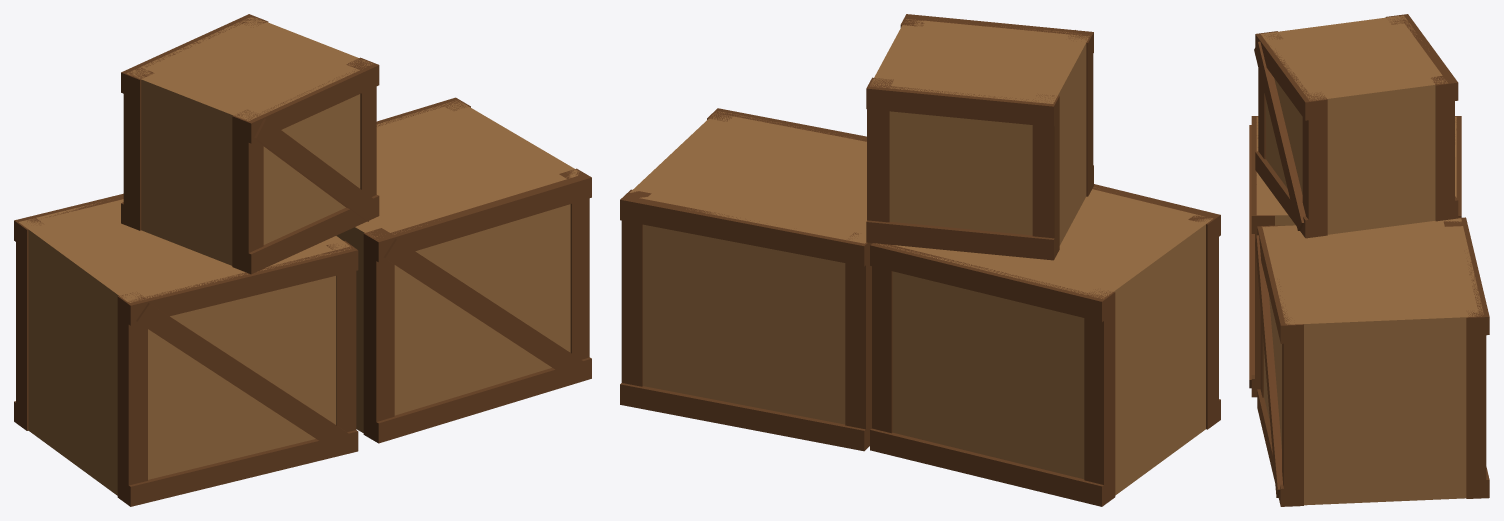
The model's file is SM_Crate_Stack.obj.
3 renders of one model, left to right at view 1: azimuth 30°, elevation 25°; view 2: azimuth 150°, elevation 25°; view 3: azimuth 270°, elevation 25°, orthographic. The views are drawn at different scales.
Visible parts, largest first — view 1: SM_Crate_Stack; view 2: SM_Crate_Stack; view 3: SM_Crate_Stack.
Part boxes in pixels (x1,y1,x2,y2): SM_Crate_Stack: (14,14,591,506); SM_Crate_Stack: (620,14,1220,506); SM_Crate_Stack: (1249,14,1489,506).
Bounding box in the file's own units: 1.49 × 1.05 × 0.7214.
